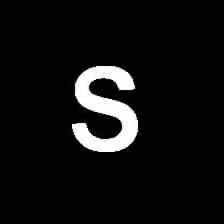LTR_S: (67, 56, 141, 155)
